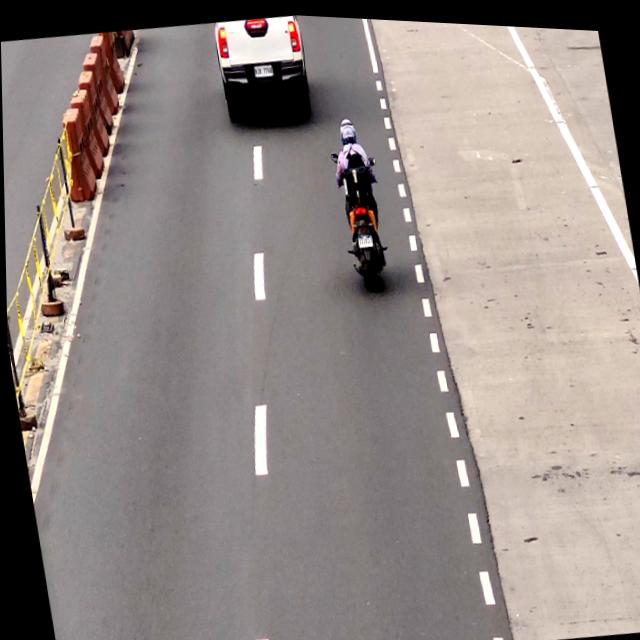Car: (212, 9, 316, 128)
License-Plate: (251, 56, 276, 78), (356, 228, 375, 246)
Motorcycle: (328, 113, 393, 294)
